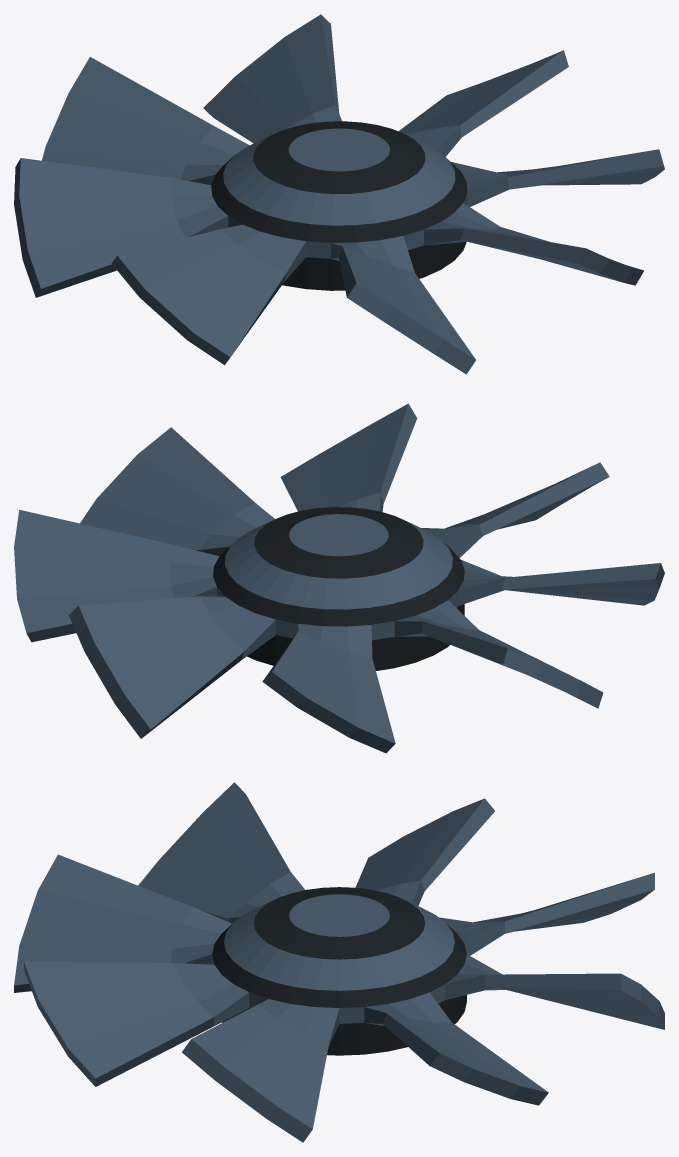
Rendered from FanEnemy.fbx.
3 views of the same model, one above another, from view 1: azimuth 30°, elevation 25°; view 2: azimuth 150°, elevation 25°; view 3: azimuth 270°, elevation 25° (orthographic).
Visible parts, largest first — view 1: Cylinder; view 2: Cylinder; view 3: Cylinder.
Boxes of the visible parts, x1,y1,x2,y2 form: Cylinder: [14, 14, 664, 374]; Cylinder: [14, 403, 664, 753]; Cylinder: [14, 782, 664, 1142].
Size of the model in its own units: 5518 by 917 by 5518.
